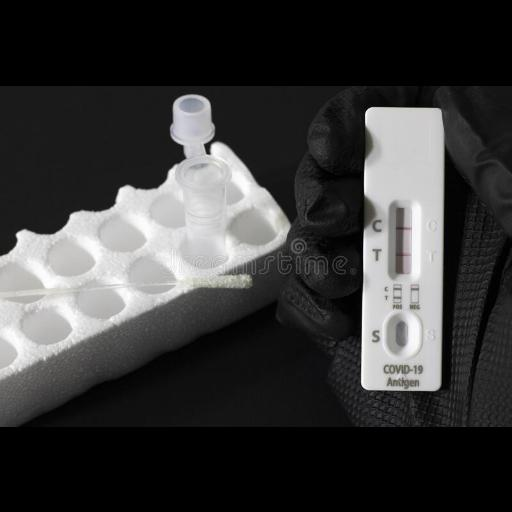Pos: (365, 106, 441, 390)
